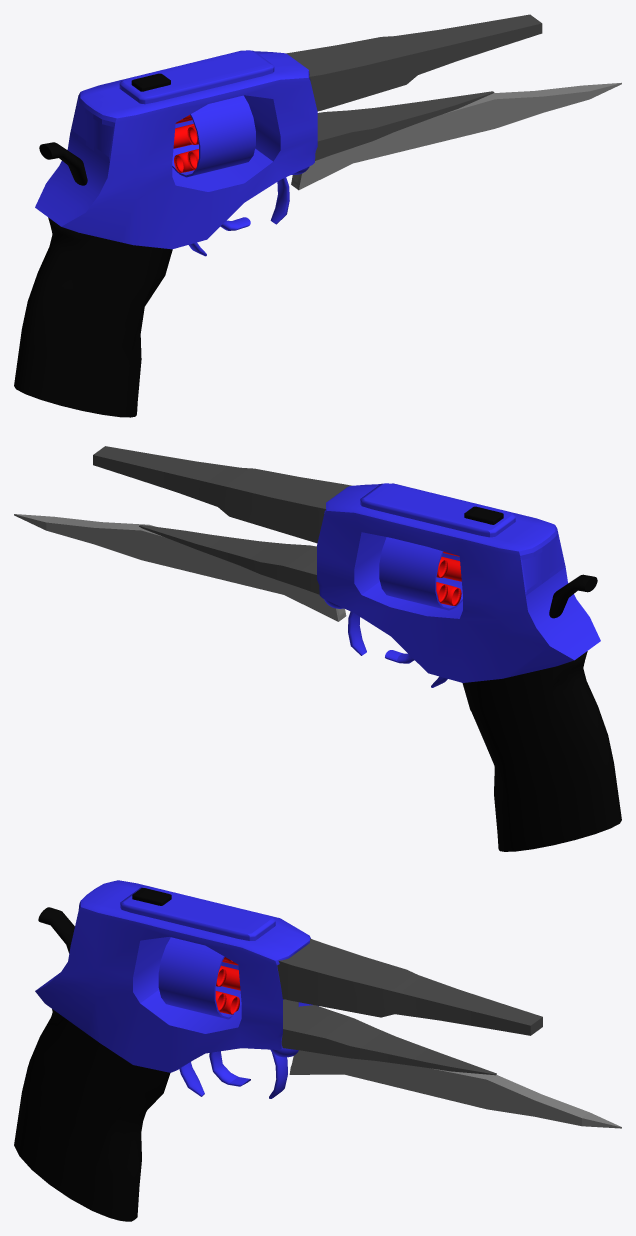
Rendered from revolver.fbx.
The picture shows the model from 3 angles, top to bottom: view 1: azimuth 30°, elevation 25°; view 2: azimuth 150°, elevation 25°; view 3: azimuth 330°, elevation 25°; orthographic projection.
Visible parts, largest first — view 1: Box001, Cylinder001, Box003, Box005, Box002, Cylinder002, Box004, Torus001, Cylinder004, Torus002; view 2: Box001, Cylinder001, Box003, Box005, Box002, Box004, Cylinder002, Torus001, Cylinder004, Torus002; view 3: Box001, Cylinder001, Box003, Box005, Box002, Cylinder002, Box004, Torus001, Torus002, Cylinder004, Cylinder003, Box006.
Boxes of the visible parts, x1,y1,x2,y2 form: Box001: (35,50,317,249); Cylinder001: (14,217,172,417); Box003: (285,14,542,111); Box005: (291,82,621,190); Box002: (315,91,494,160); Cylinder002: (172,95,255,177); Box004: (119,50,274,104); Torus001: (173,115,198,172); Cylinder004: (39,142,87,185); Torus002: (189,177,289,256); Box001: (317,483,600,682); Cylinder001: (462,651,621,851); Box003: (93,446,351,543); Box005: (14,514,346,621); Box002: (139,525,319,594); Box004: (360,483,515,537); Cylinder002: (379,537,462,610); Torus001: (436,551,461,605); Cylinder004: (549,574,597,618); Torus002: (348,611,447,687); Box001: (35,880,318,1072); Cylinder001: (14,1009,170,1221); Box003: (277,938,542,1035); Box005: (289,1050,621,1128); Box002: (281,999,496,1075); Cylinder002: (158,937,241,1019); Box004: (120,887,275,940); Torus001: (215,957,240,1014); Torus002: (179,1051,287,1098); Cylinder004: (38,907,74,953); Cylinder003: (209,1051,250,1086); Box006: (132,888,171,905).
Bounding box in the file's own units: 116 × 60.1 × 13.93.
